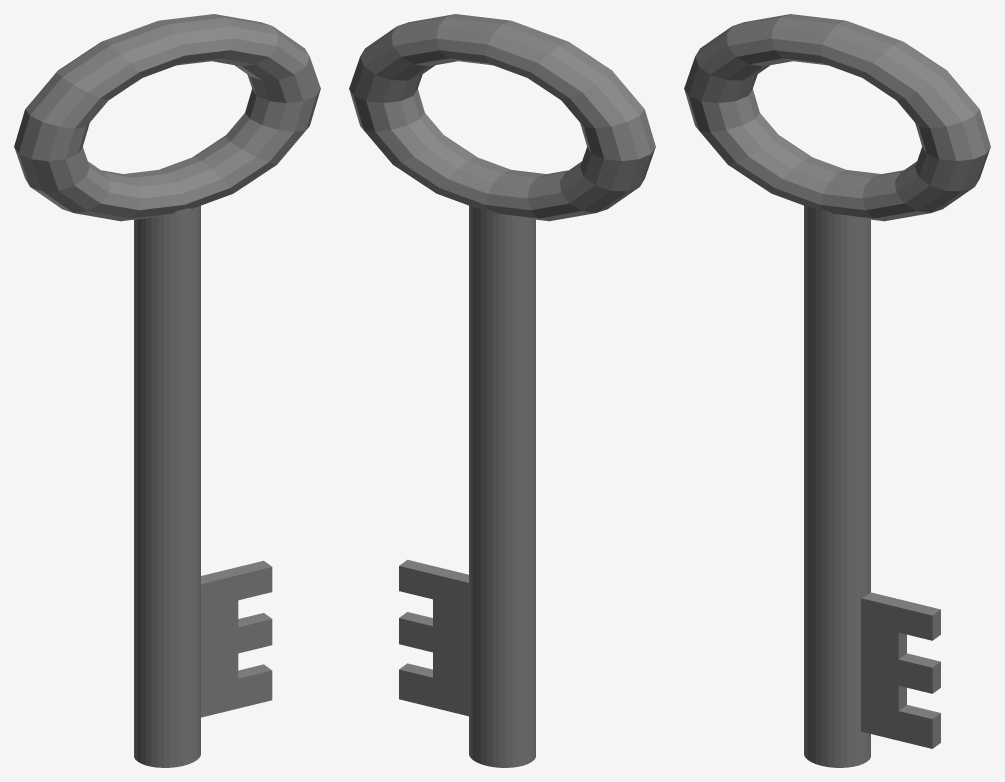
The model's file is SilverKey.fbx.
The picture shows the model from 3 angles, left to right: view 1: azimuth 30°, elevation 25°; view 2: azimuth 150°, elevation 25°; view 3: azimuth 330°, elevation 25°; orthographic projection.
Visible parts, largest first — view 1: Cylinder, Torus, Plane; view 2: Cylinder, Torus, Plane; view 3: Cylinder, Torus, Plane.
Boxes of the visible parts, bbox=[...] form: Cylinder: bbox=[134, 205, 200, 767]; Torus: bbox=[14, 14, 320, 221]; Plane: bbox=[201, 560, 272, 717]; Cylinder: bbox=[469, 205, 535, 767]; Torus: bbox=[349, 14, 655, 221]; Plane: bbox=[399, 559, 468, 716]; Cylinder: bbox=[804, 205, 870, 767]; Torus: bbox=[684, 14, 990, 221]; Plane: bbox=[861, 592, 940, 748].
Bounding box in the file's own units: 53.4 × 125 × 10.68.
